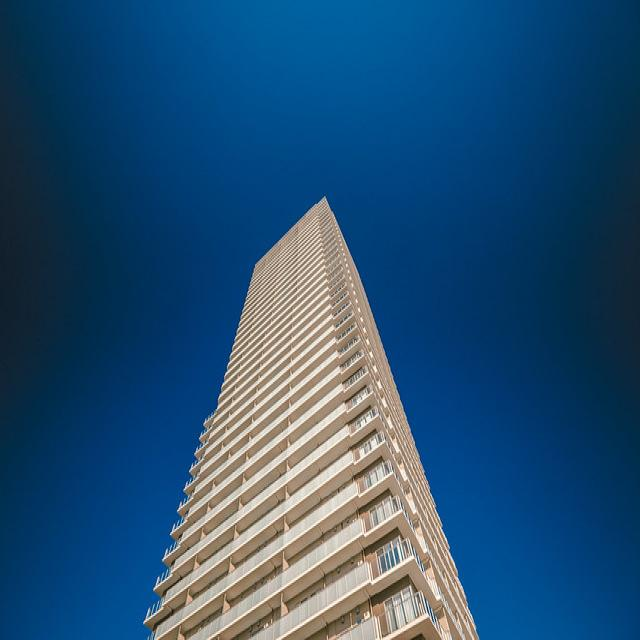Normal_building: (140, 186, 489, 640)
